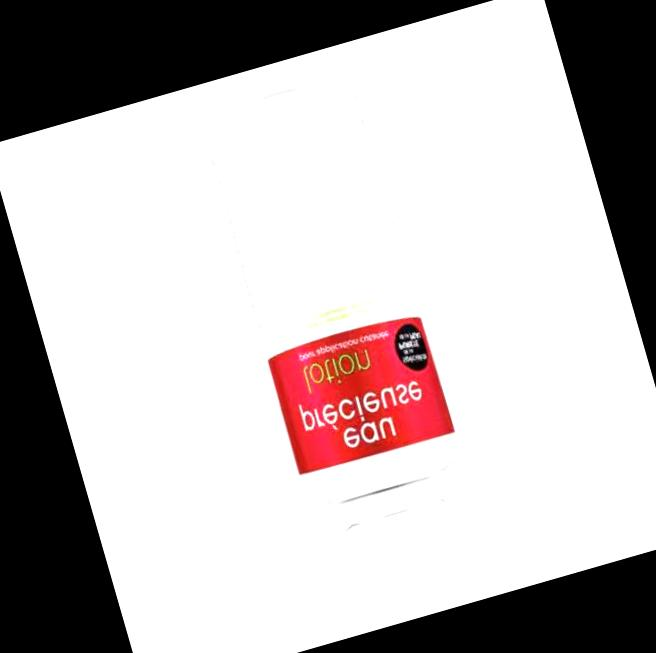cosmetic: (201, 92, 489, 598)
